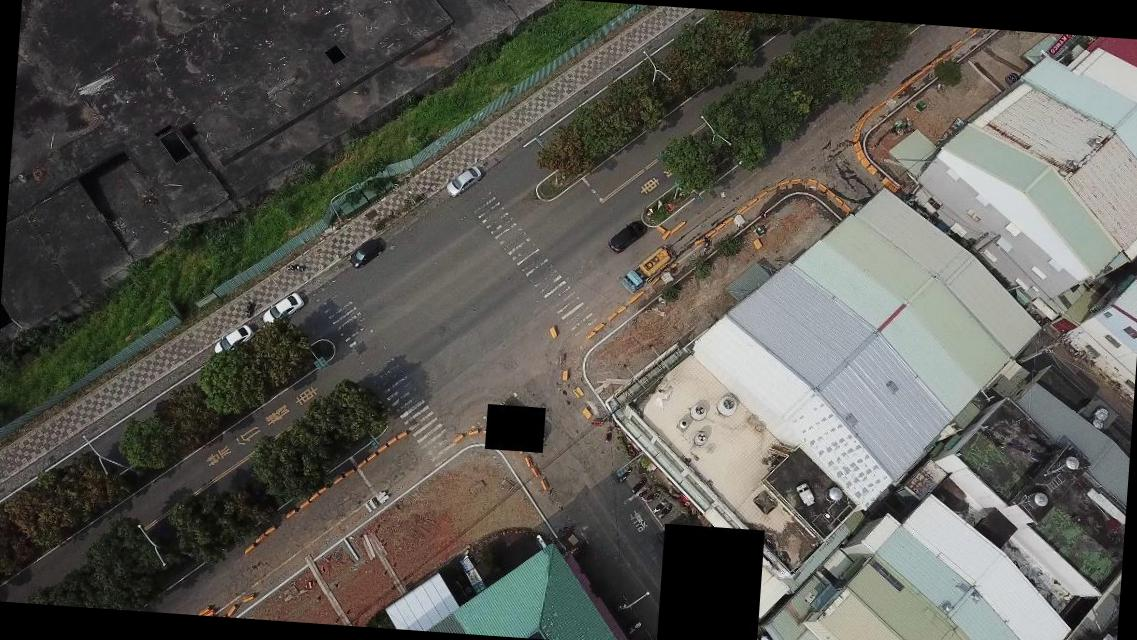vehicle: (212, 321, 255, 358), (262, 288, 302, 326), (603, 219, 646, 254), (444, 162, 482, 198), (348, 234, 384, 268)
